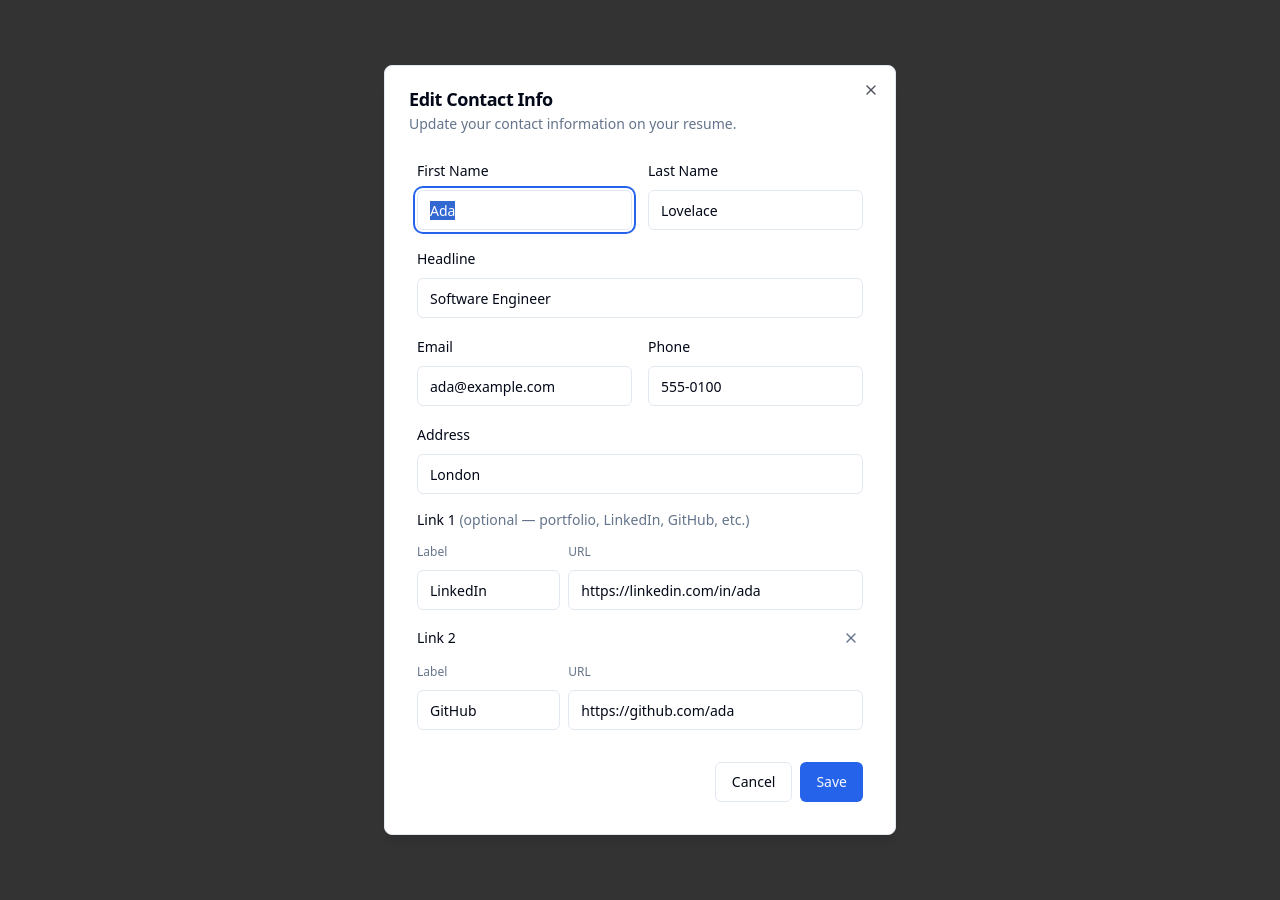
AddContactInfo Component › second link › clears the second link values when removed
Check: the text "Link 2" is shown, box x1=417 y1=628 x2=456 y2=648
Click the button without text in the row of "Link 2" at (851, 638), box x1=839 y1=626 x2=863 y2=650
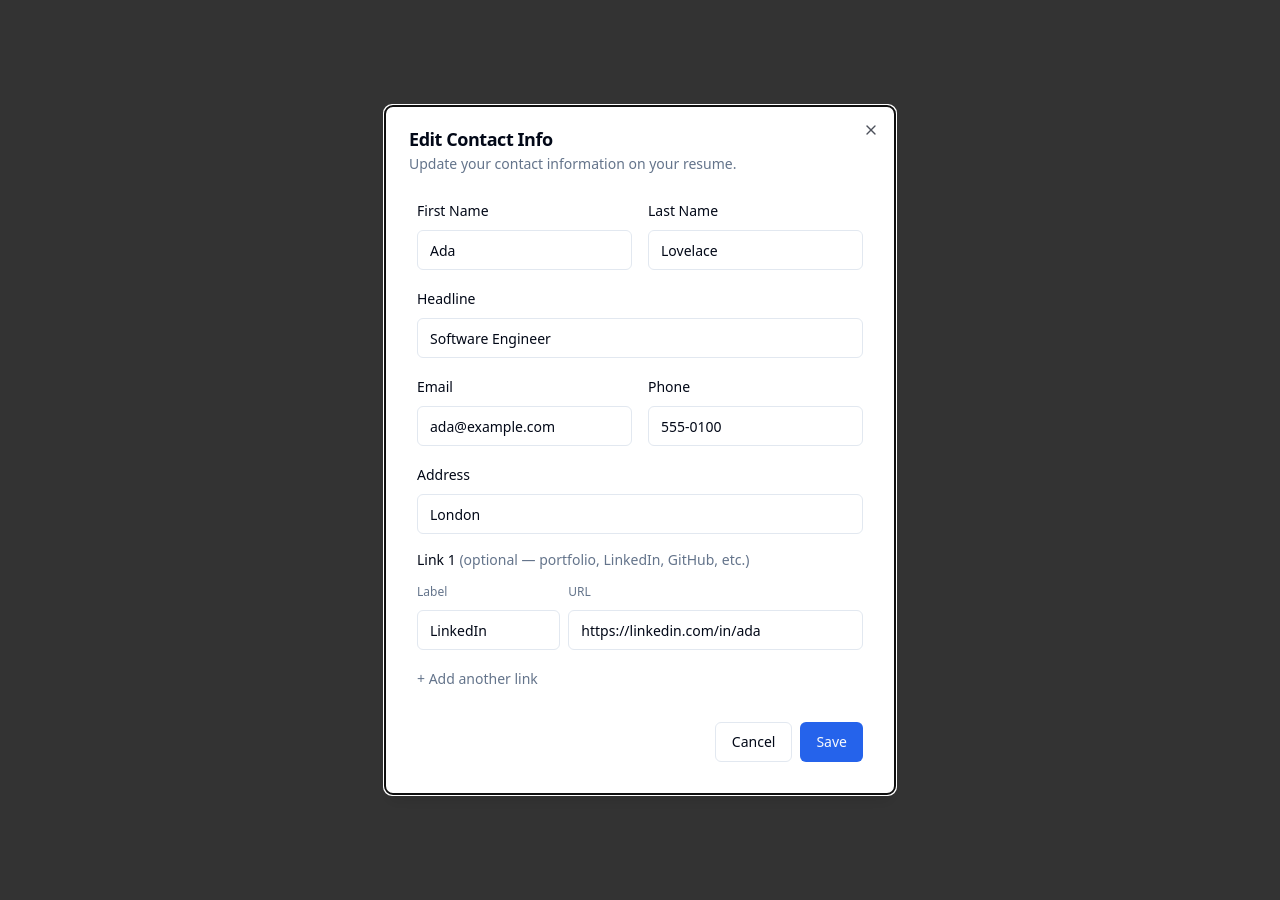
Check: the field showing "https://github.com/ada" is not shown
Check: the text "Link 2" is gone
